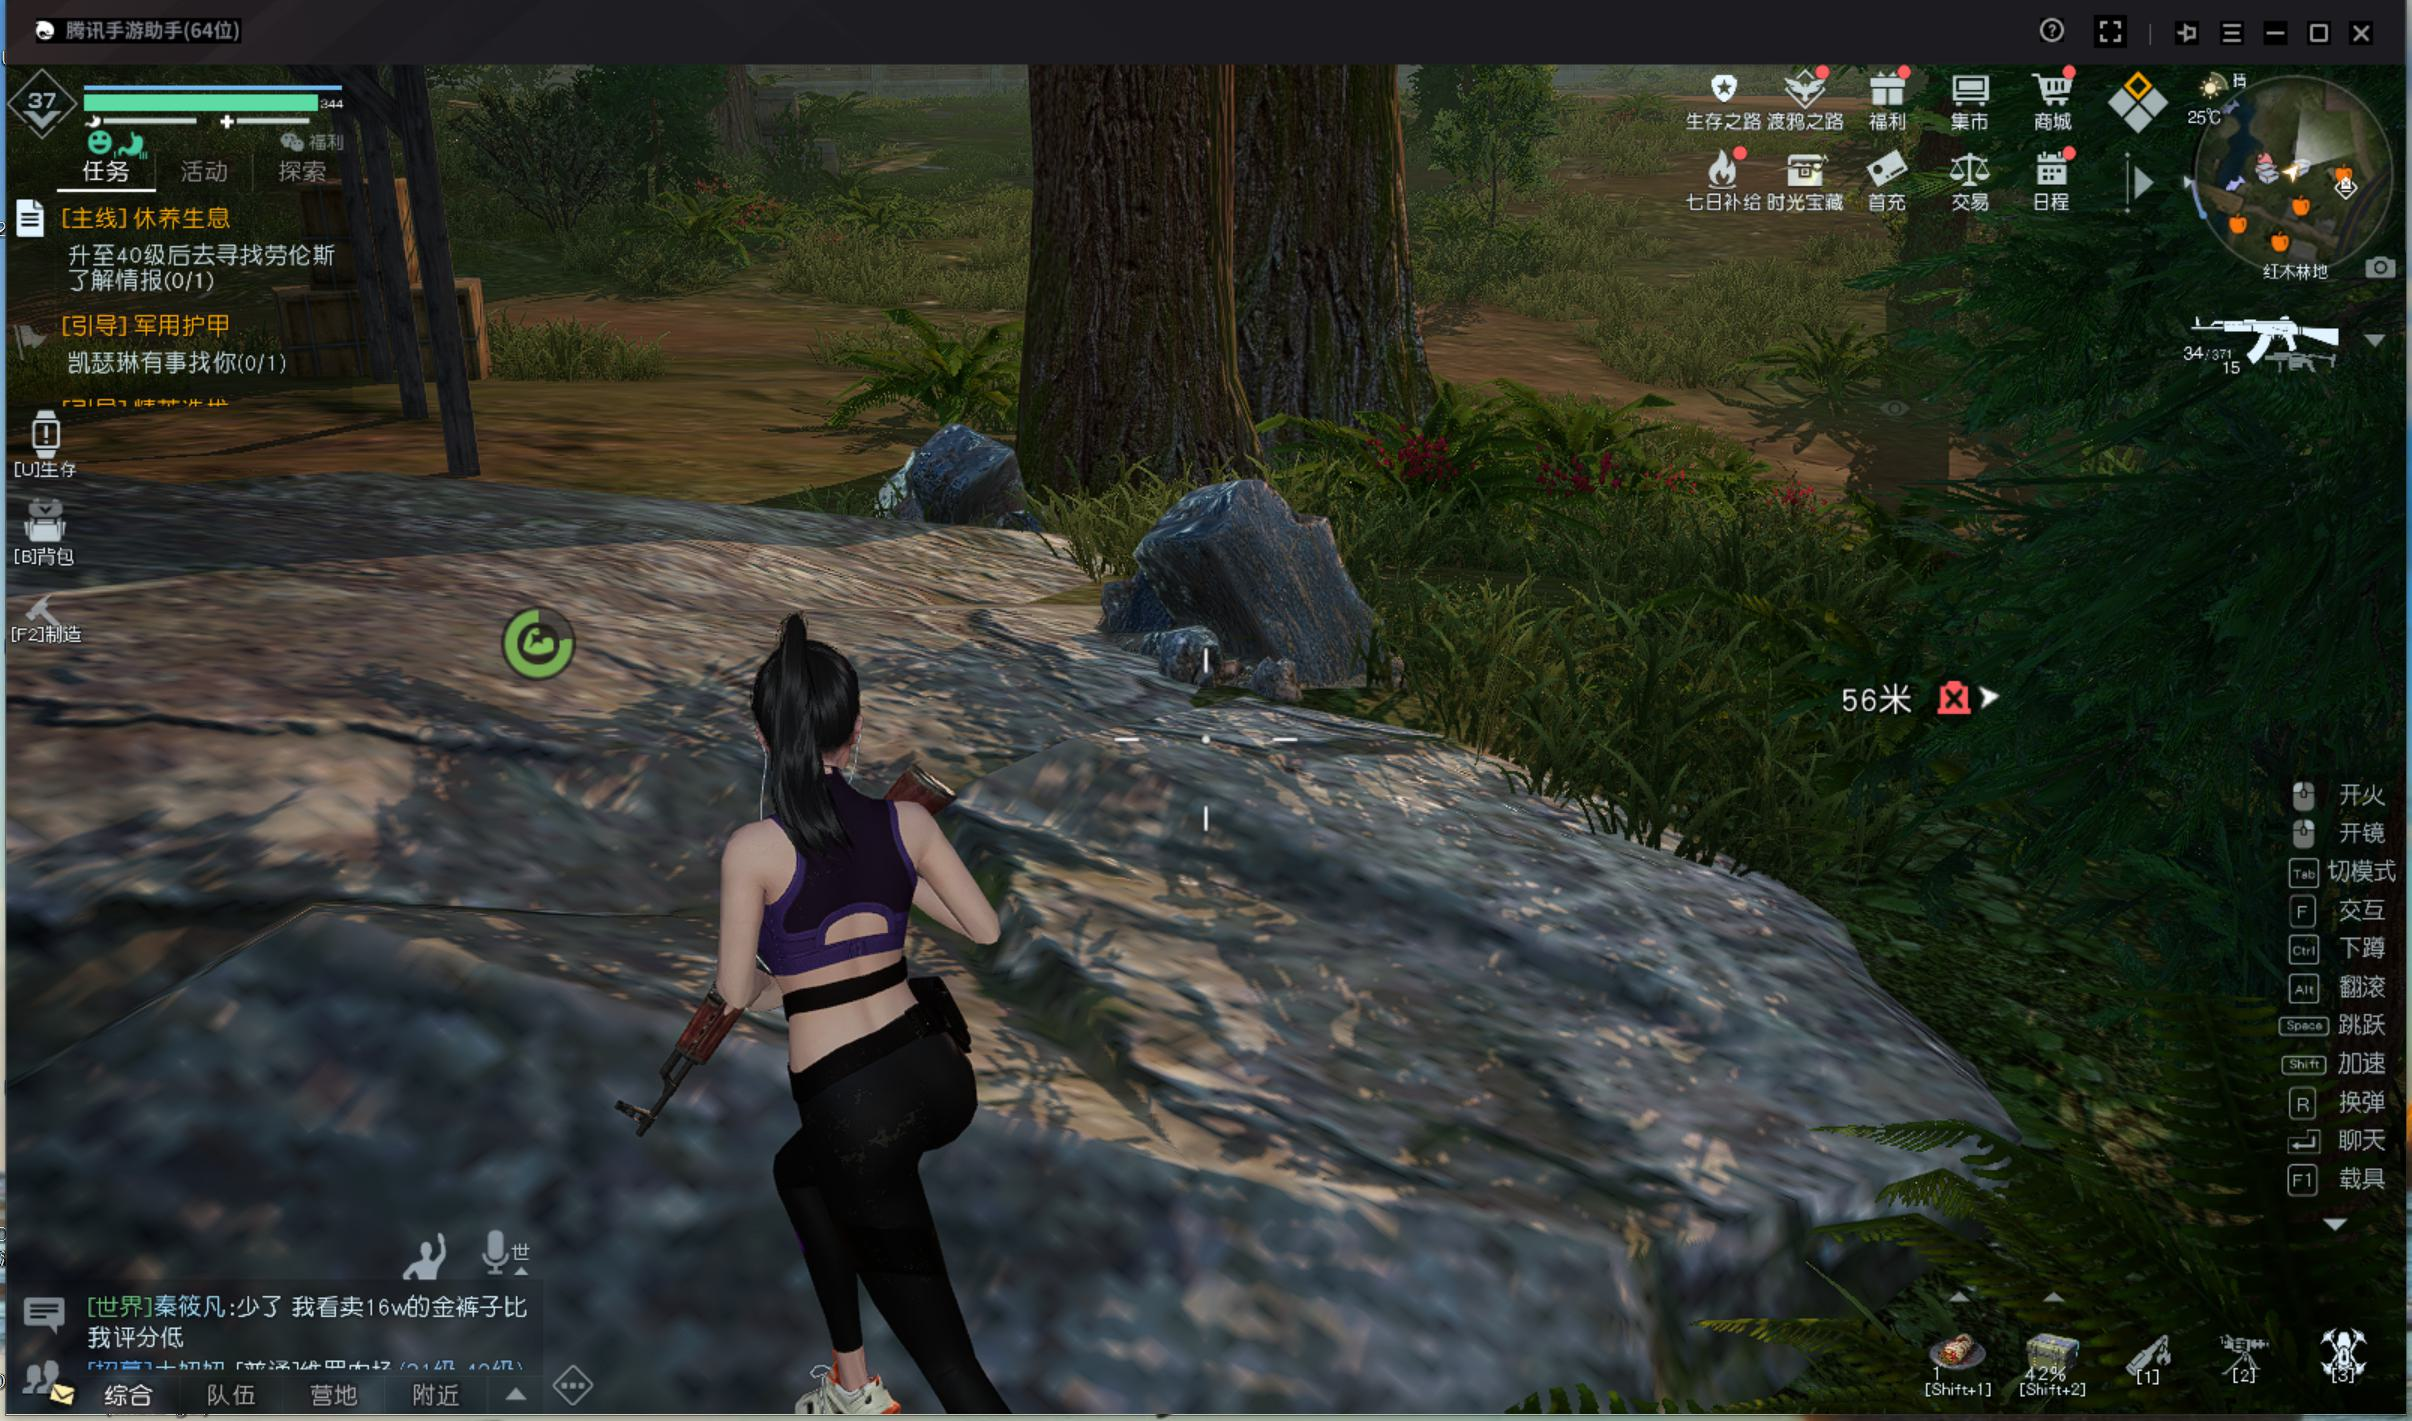stone: (1099, 453, 1380, 712), (841, 360, 1006, 558)
